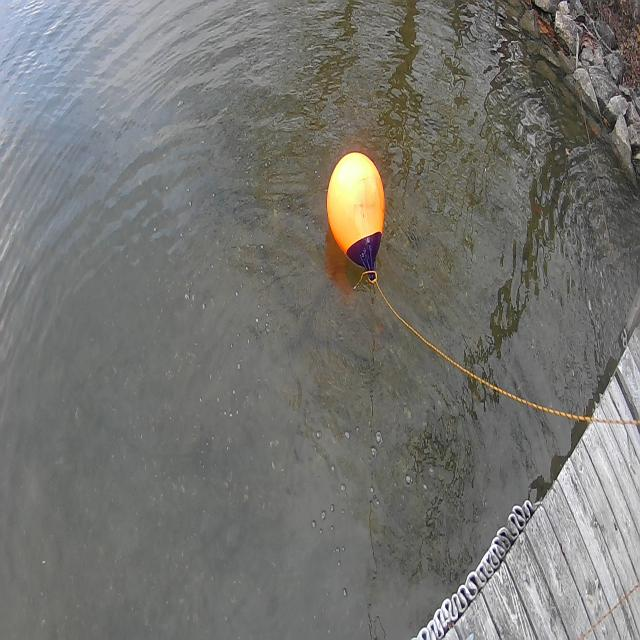Buoy: (325, 150, 387, 256)
